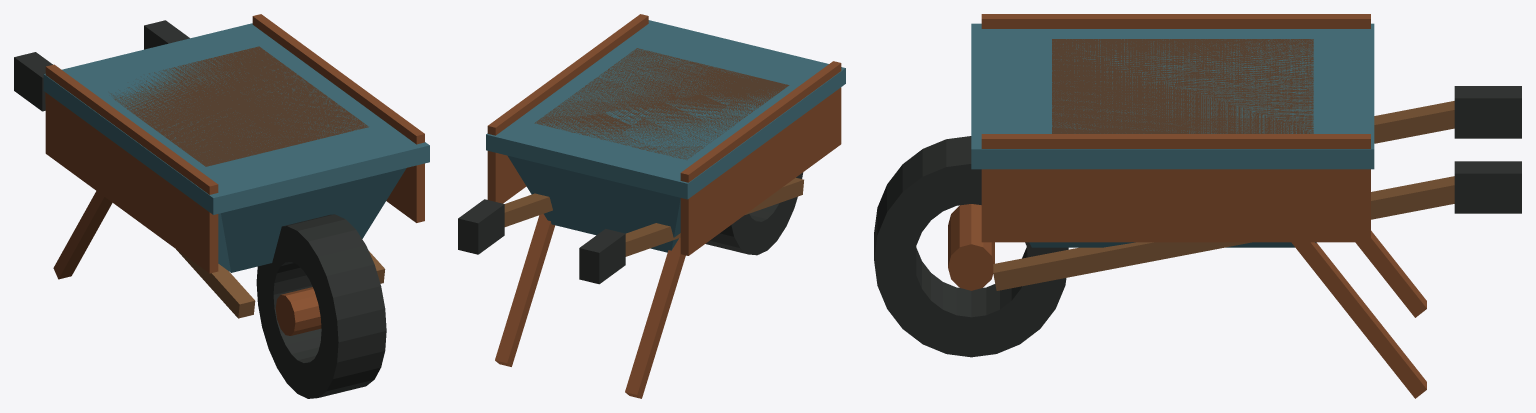
File: FARM_WHEELBARROW_LODs.fbx
3 renders of one model, left to right at view 1: azimuth 30°, elevation 25°; view 2: azimuth 150°, elevation 25°; view 3: azimuth 270°, elevation 25°, orthographic. The views are drawn at different scales.
Visible parts, largest first — view 1: FARM_WHEELBARROW_LOD0; view 2: FARM_WHEELBARROW_LOD0; view 3: FARM_WHEELBARROW_LOD0.
Part boxes in pixels (x1,y1,x2,y2): FARM_WHEELBARROW_LOD0: (14, 14, 429, 398); FARM_WHEELBARROW_LOD0: (458, 14, 845, 398); FARM_WHEELBARROW_LOD0: (874, 14, 1521, 398).
Size of what is drawn, in the model's own units: 0.88 by 0.91 by 1.92.
